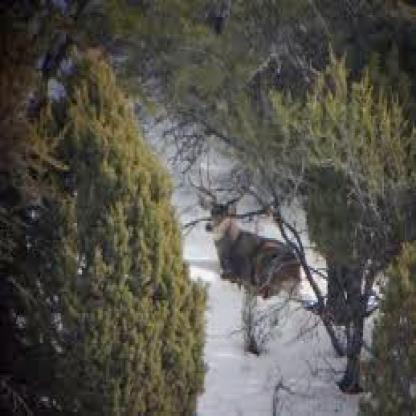Deer: (186, 155, 304, 331)
